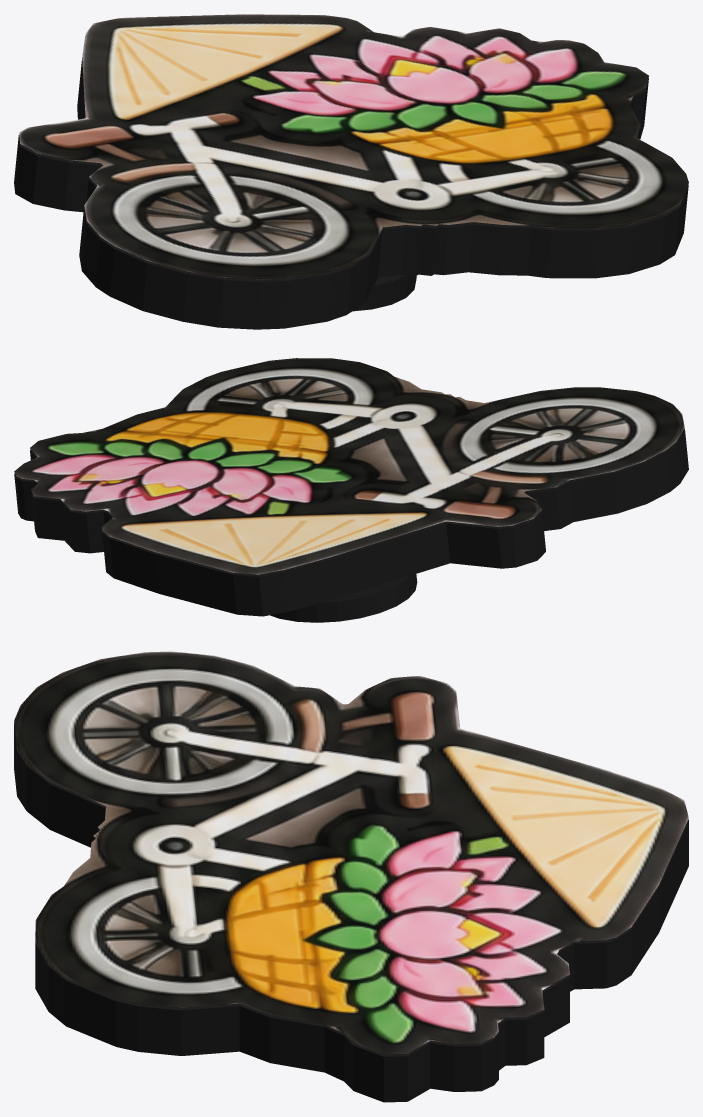
File: vietnam-flower-bicycle.glb
The picture shows the model from 3 angles, top to bottom: view 1: azimuth 30°, elevation 25°; view 2: azimuth 150°, elevation 25°; view 3: azimuth 270°, elevation 25°; orthographic projection. The views are drawn at different scales.
Parts seen in each view (by area): view 1: VIETNAM_Flower_Bicycle_MODEL; view 2: VIETNAM_Flower_Bicycle_MODEL; view 3: VIETNAM_Flower_Bicycle_MODEL.
Boxes of the visible parts, <box> form: VIETNAM_Flower_Bicycle_MODEL: <box>14,14,688,329</box>; VIETNAM_Flower_Bicycle_MODEL: <box>14,358,688,622</box>; VIETNAM_Flower_Bicycle_MODEL: <box>14,651,688,1102</box>.
Size of the model in its own units: 0.3744 by 0.1022 by 0.3232.
Materials: 3 (1 with a texture image).
